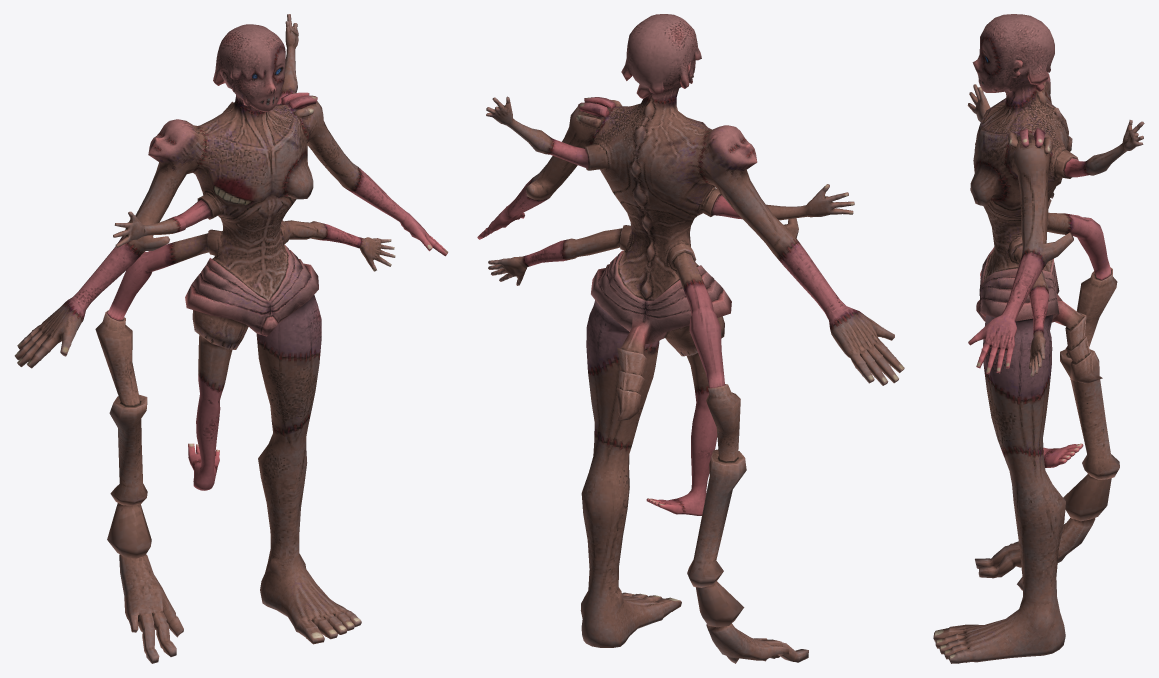
Rendered from colector_no_decimate.glb.
3 renders of one model, left to right at view 1: azimuth 30°, elevation 25°; view 2: azimuth 150°, elevation 25°; view 3: azimuth 270°, elevation 25°, orthographic. The views are drawn at different scales.
Parts seen in each view (by area): view 1: Coleccionista low; view 2: Coleccionista low; view 3: Coleccionista low.
Part boxes in pixels (x1,y1,x2,y2): Coleccionista low: (14, 14, 448, 663); Coleccionista low: (477, 14, 904, 663); Coleccionista low: (933, 14, 1144, 663).
Size of the model in its own units: 1.85 by 2.55 by 0.8019.
Materials: 2 (2 with a texture image).
